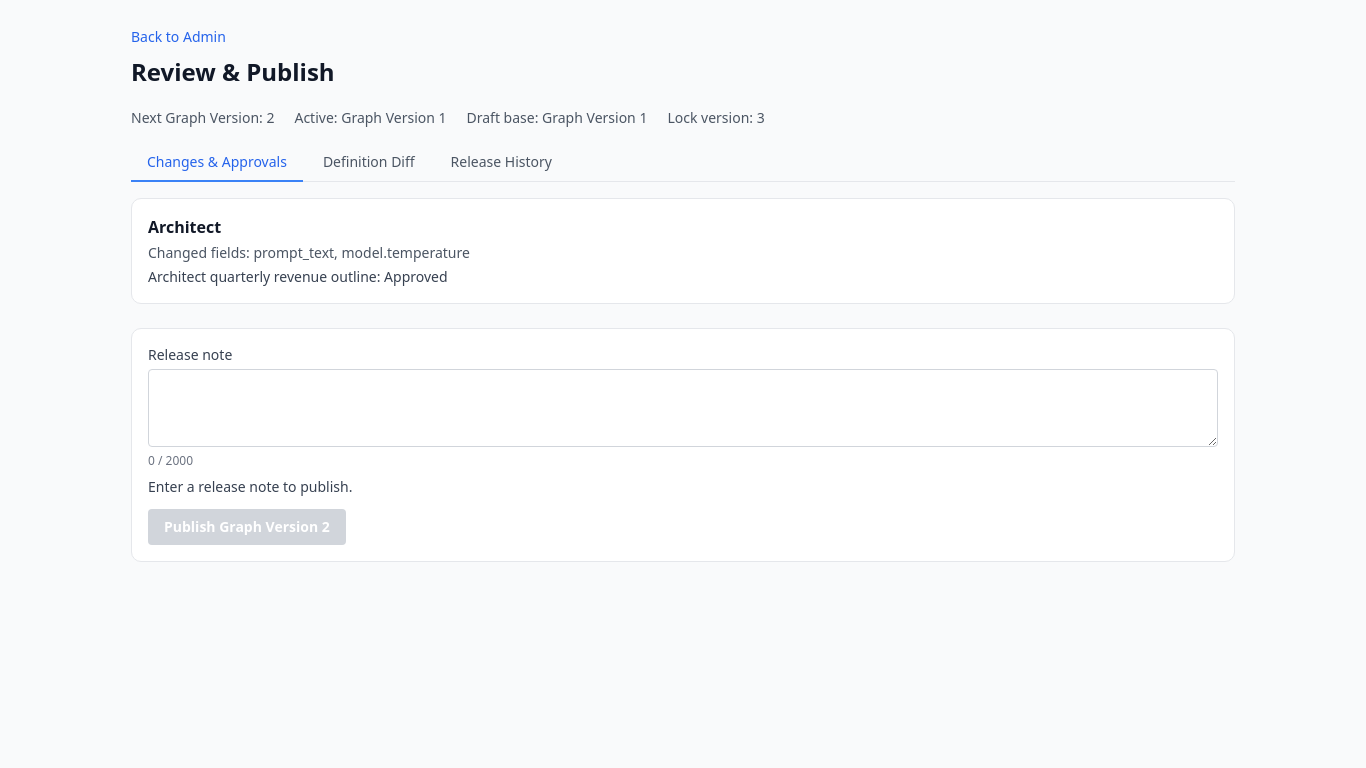
Test: ReviewAndPublishPage: the preview › shows the field diffs per role on the Definition Diff tab, prompts line by line
expect the text "Next Graph Version: 2" is shown: met, box [131,108,274,128]
Step 1. Click the tab with test id "release-diff-tab" → (369, 163), box [307,144,431,182]
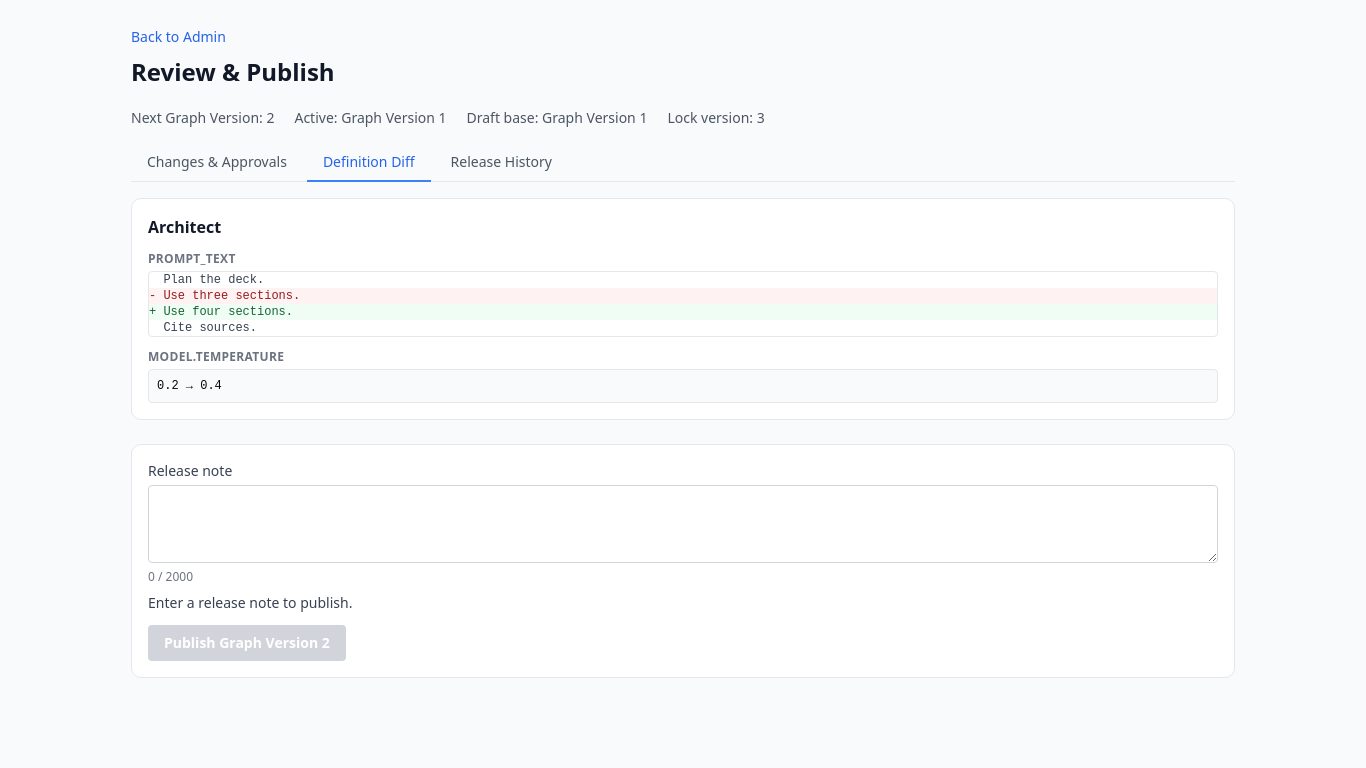
expect the text with test id "release-diff-model.temperature" reads "0.2 → 0.4": met, box [157,379,222,393]
